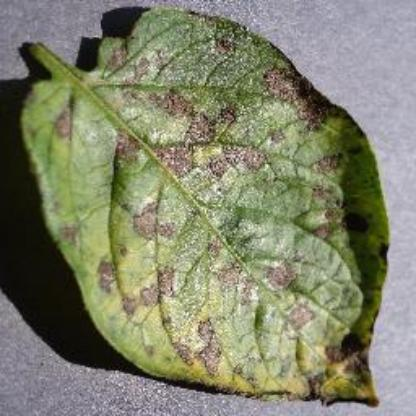Early-Blight: (13, 5, 391, 410)
